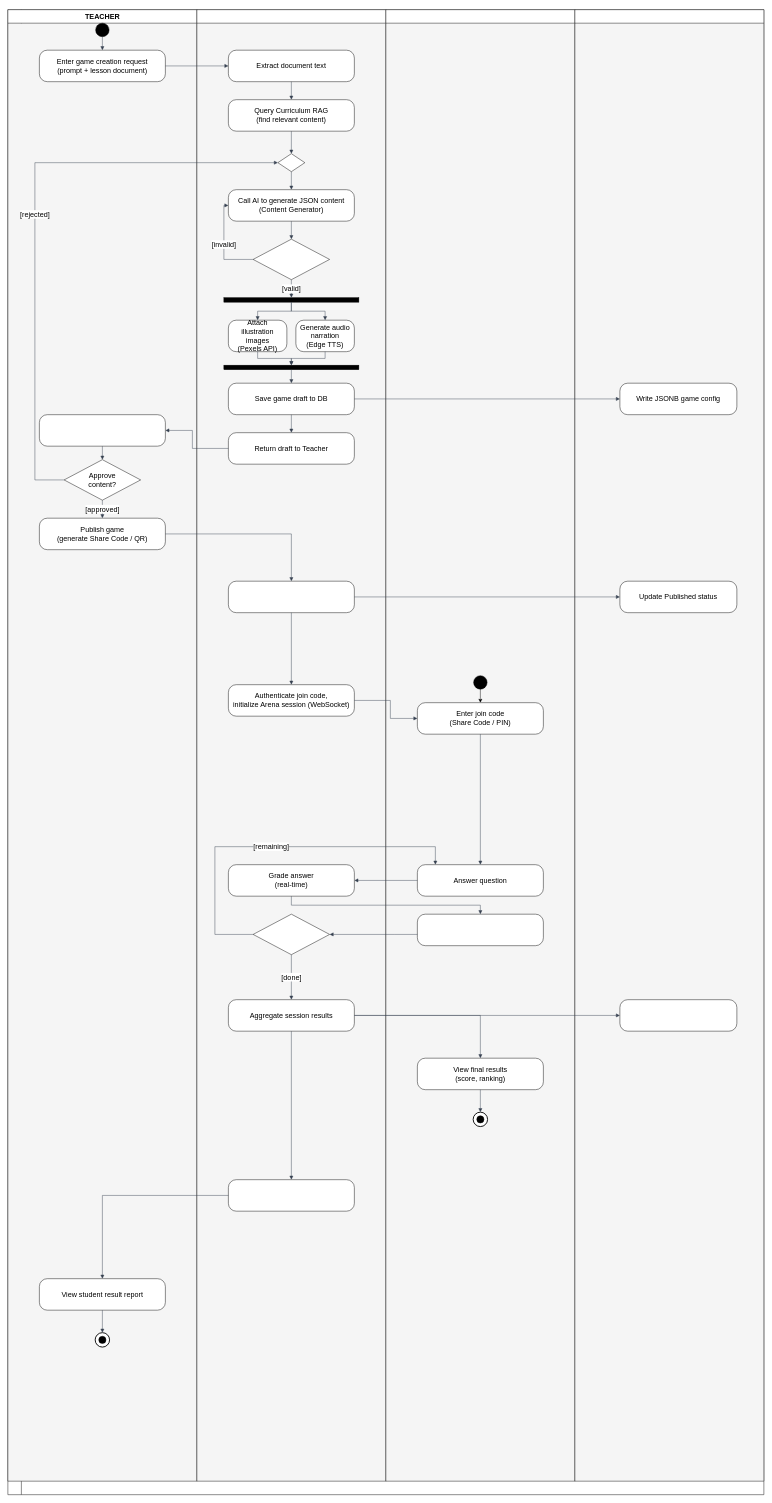
Image size: 772x1503. Some labels were removed from this diagram. The shapes that lost their labels are listed below. From the top down, each one's box as (x1, y1, x2, y2) in pixels, then its label:
(253, 239, 330, 280): Pass 3-layer validation?
(39, 414, 165, 446): Preview draft content
(228, 581, 354, 613): Save Published status to DB
(196, 9, 386, 1481): BACKEND (Business Logic)
(385, 9, 575, 1481): STUDENT
(574, 9, 764, 1481): DATABASE (PostgreSQL)
(253, 914, 330, 955): More questions remaining?
(417, 914, 543, 946): Receive instant feedback (correct/incorrect + score)
(619, 999, 737, 1031): Write session results (scores, audit log)
(228, 1179, 354, 1211): Send result report to Teacher
